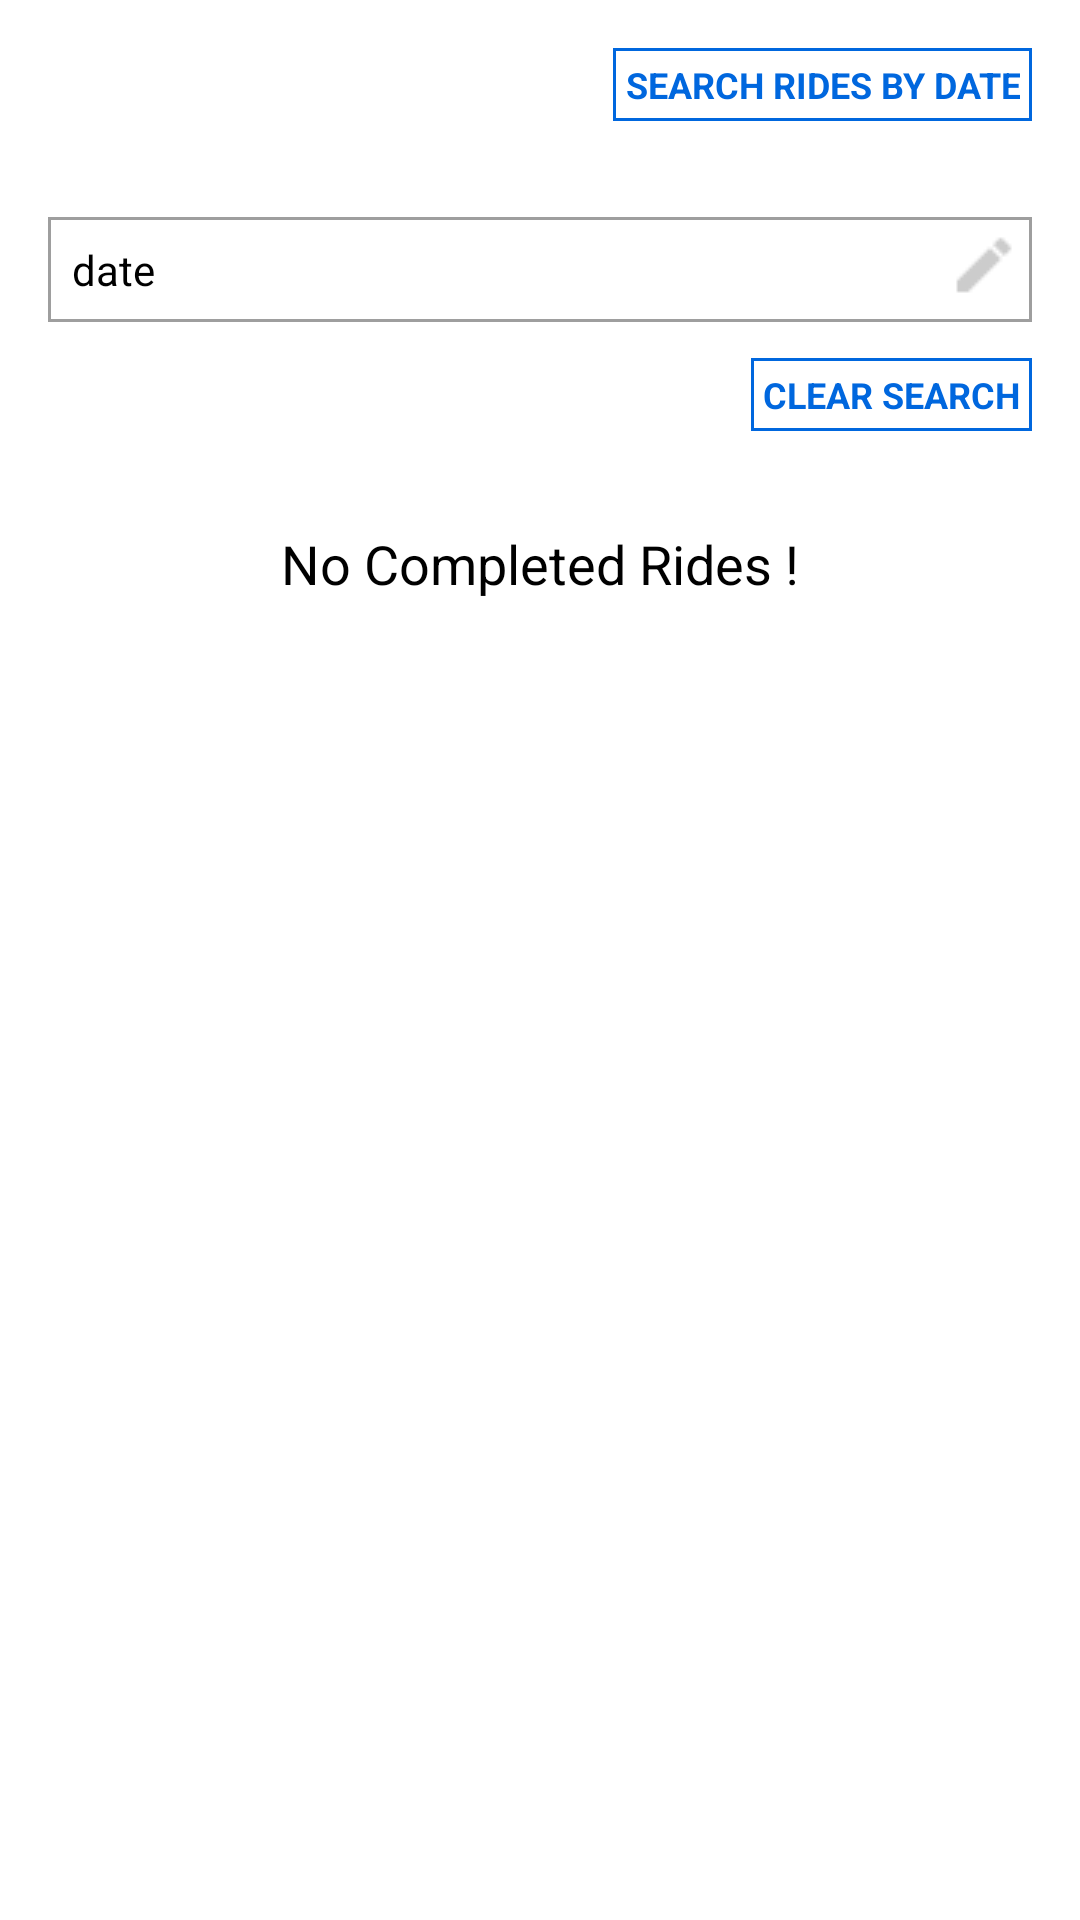

Screen size 1080px×1920px. Icon name, then its center in pixels as point (x, y):
edit: point (984, 265)
